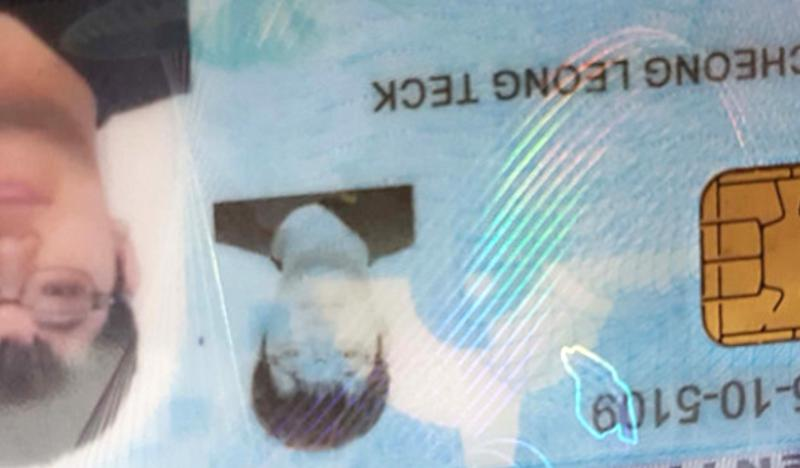hologram: (441, 112, 615, 340)
